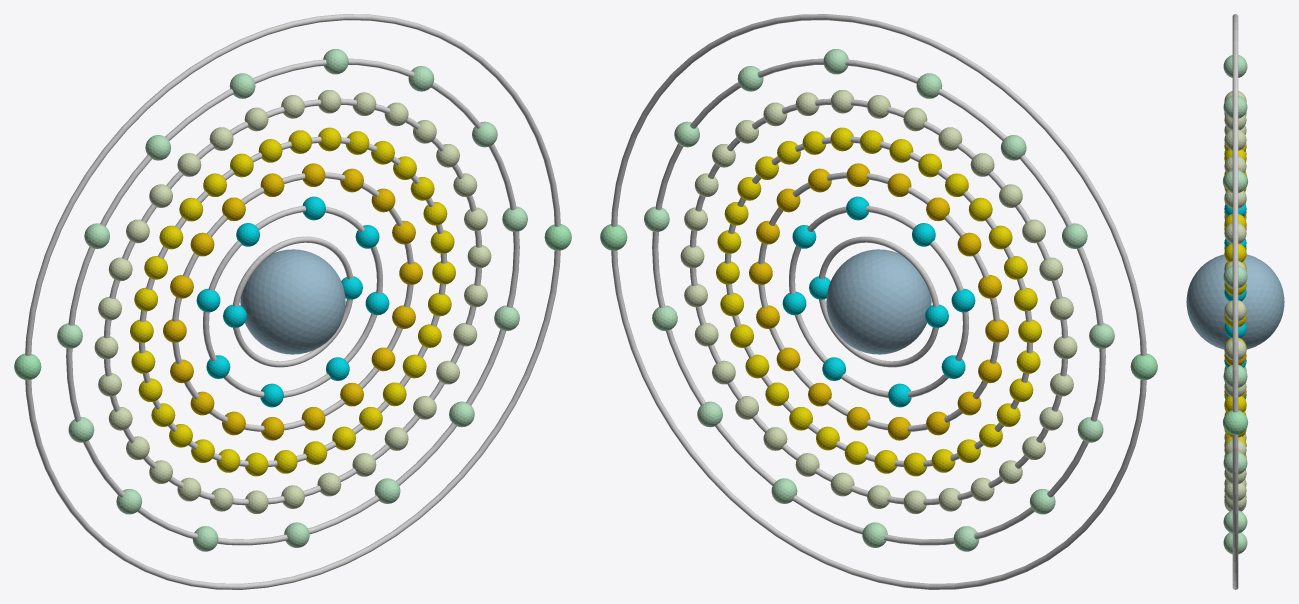
3 views of the same model, side by side, from view 1: azimuth 30°, elevation 25°; view 2: azimuth 150°, elevation 25°; view 3: azimuth 270°, elevation 25° (orthographic). The views are drawn at different scales.
Parts seen in each view (by area): view 1: world; view 2: world; view 3: world.
Boxes of the visible parts, x1,y1,x2,y2 form: world: [14, 14, 571, 589]; world: [600, 14, 1157, 589]; world: [1186, 14, 1284, 589].
Bounding box in the file's own units: 2.67 × 2.59 × 0.44.
